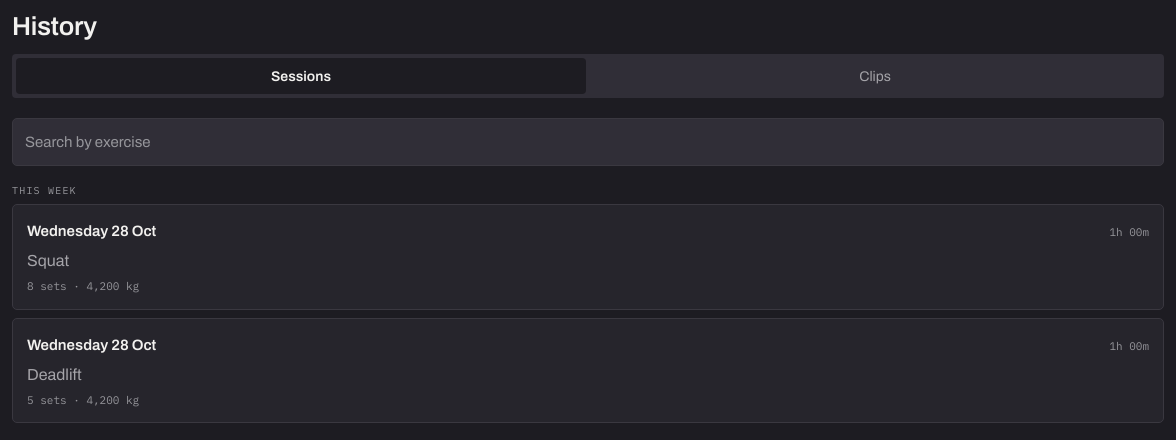
Scenario: search › answers the query people actually have
Expected: the link "Wednesday 28 Oct 1h 00m Squat 8 sets · 4,200 kg" is shown, 12,204 -> 1164,310
Type "deadlift" into the search field labelled "Search by exercise". click: point(588, 142)
box: 12,118 -> 1164,166
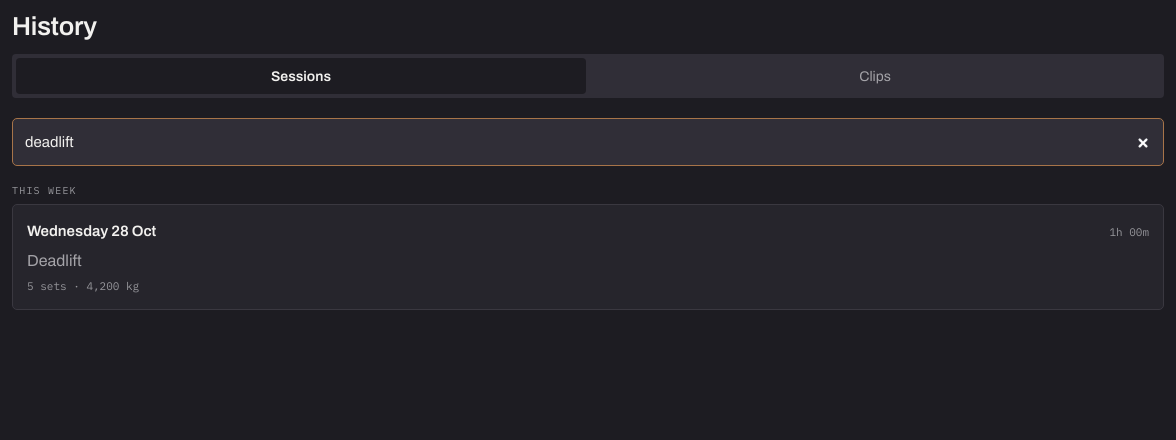
Expected: the link "Wednesday 28 Oct 1h 00m Deadlift 5 sets · 4,200 kg" is shown, 12,204 -> 1164,310
Now the link "8 sets" is gone
